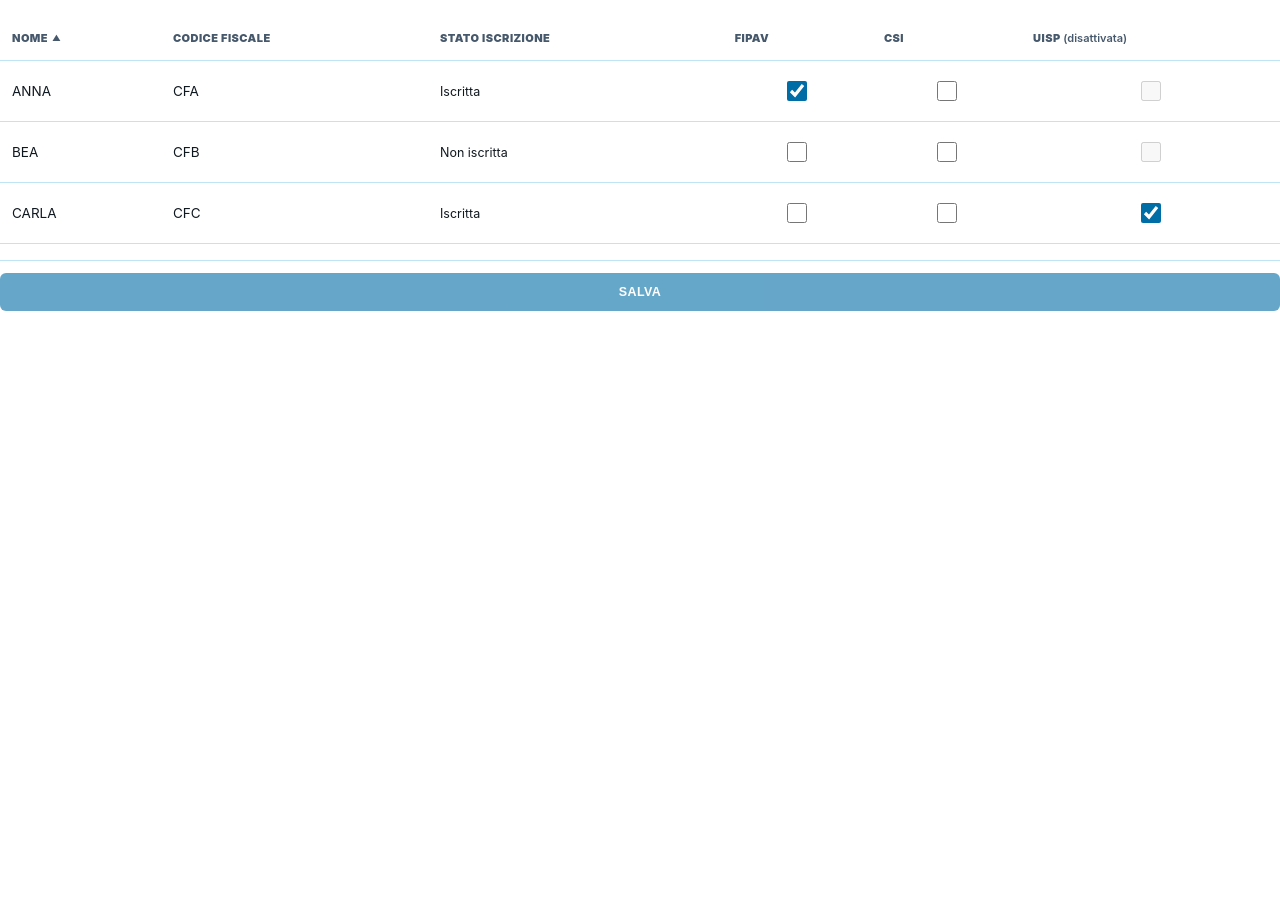
Test: ConfermaTesseramentiForm › Annulla chiude la conferma lasciando la tabella com'era
The width and height of the screenshot is (1280, 900).
Step 1. Click the checkbox named "ANNA: FIPAV" → (797, 91), box [787,81,807,101]
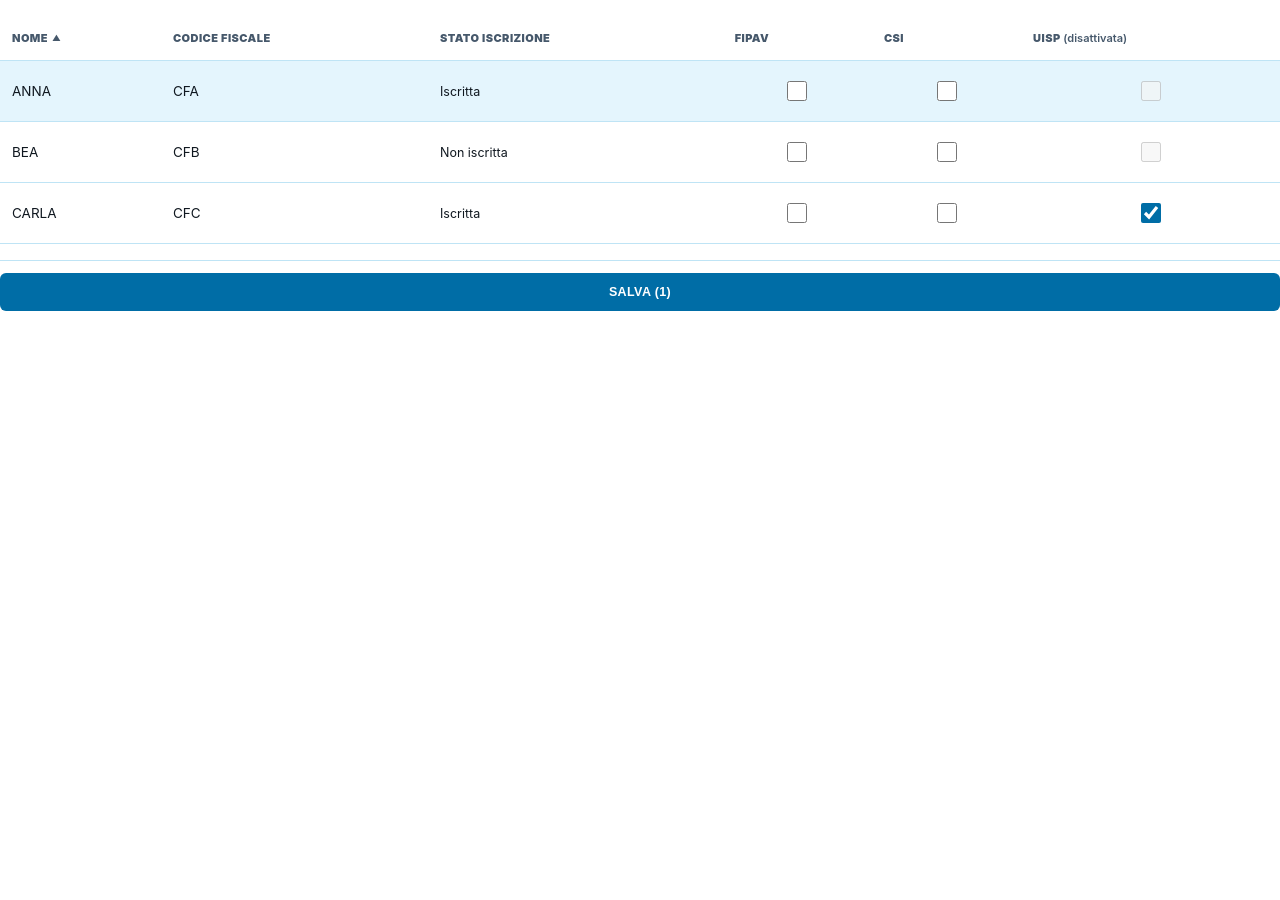
Step 2. Click the button "Salva (1)" → (640, 292), box [0,273,1279,311]
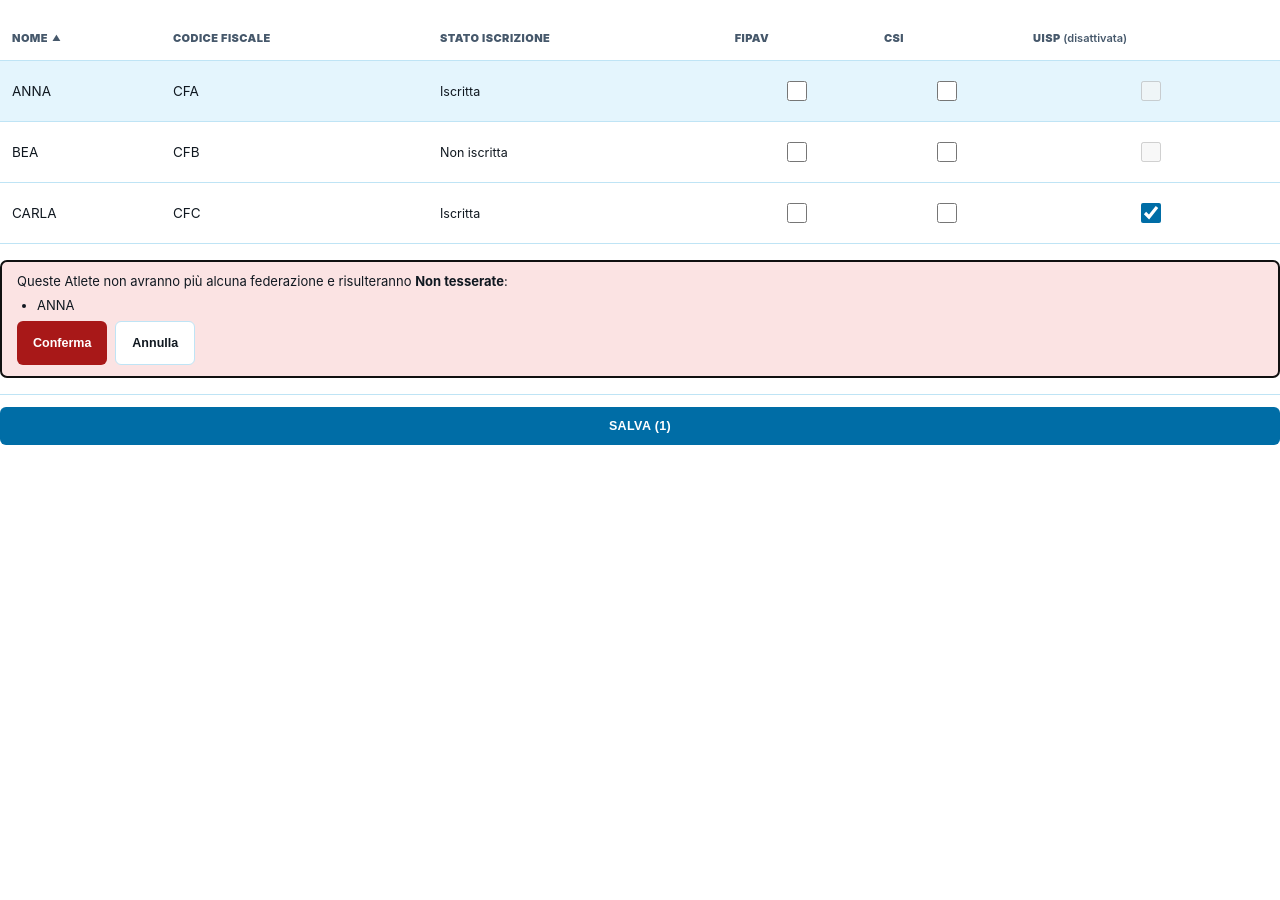
Step 3. Click the button "Annulla" → (155, 343), box [115,321,195,365]
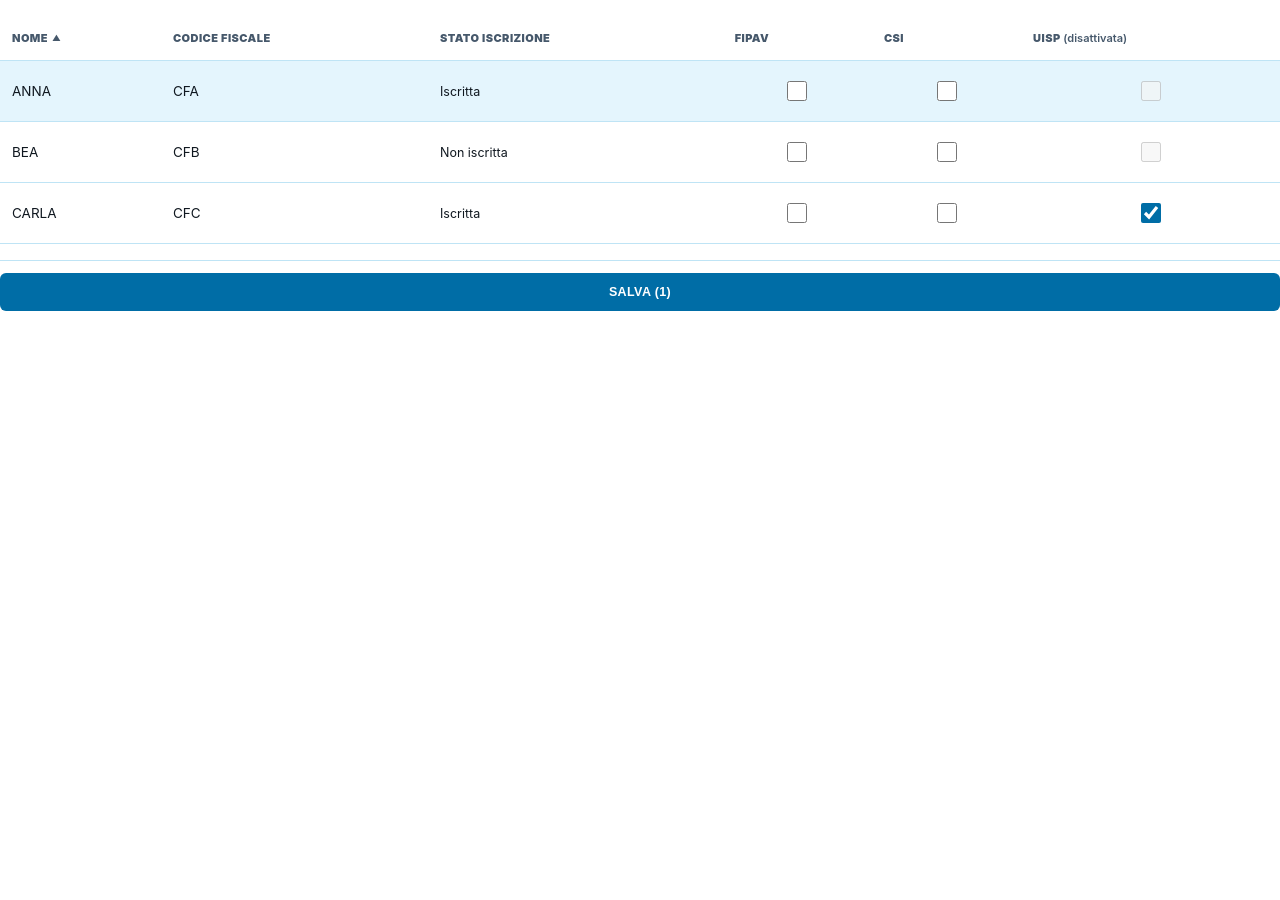
Expected: the dialog is gone
